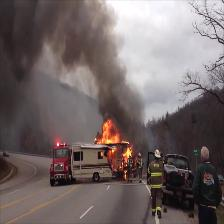fire: (100, 121, 119, 146)
smoke: (73, 9, 117, 75), (104, 76, 133, 122)
